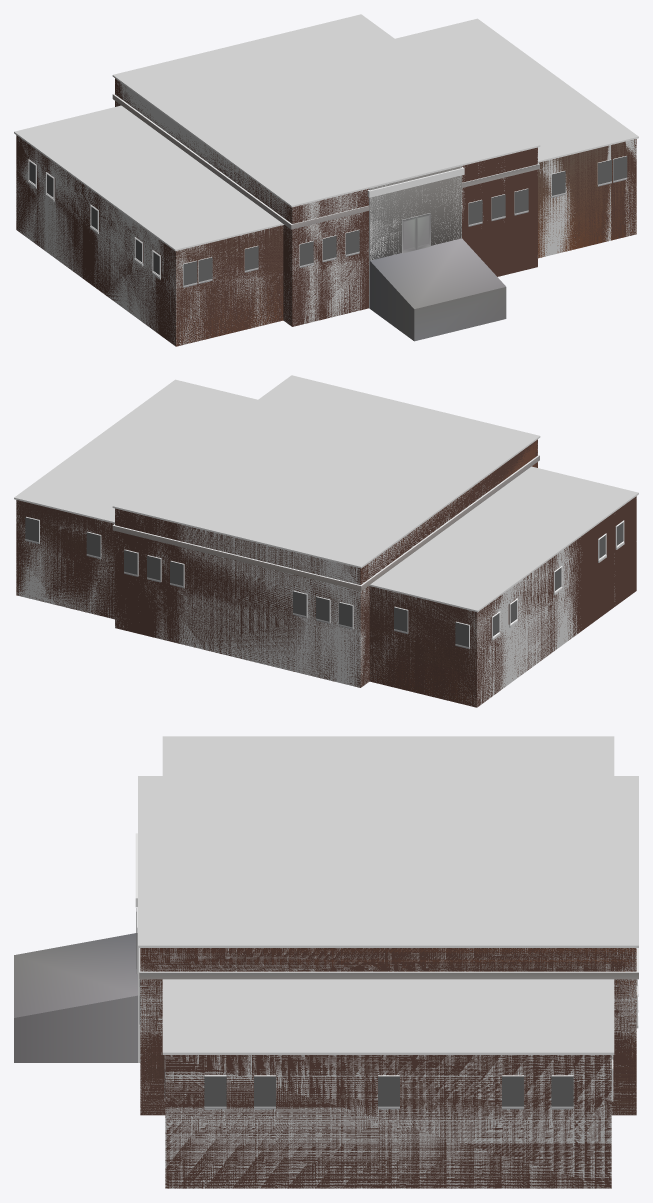
The model's file is eca_bld_station_police_a.dae.
3 renders of one model, top to bottom at view 1: azimuth 30°, elevation 25°; view 2: azimuth 150°, elevation 25°; view 3: azimuth 270°, elevation 25°, orthographic. The views are drawn at different scales.
Parts seen in each view (by area): view 1: ind_bld_a400, ind_bld_a100, ind_bld_a60; view 2: ind_bld_a400, ind_bld_a100, ind_bld_a60; view 3: ind_bld_a400, ind_bld_a100, ind_bld_a60.
Boxes of the visible parts, x1,y1,x2,y2 form: ind_bld_a400: (14,14,638,345); ind_bld_a100: (16,78,636,346); ind_bld_a60: (115,79,636,346); ind_bld_a400: (14,375,638,707); ind_bld_a100: (16,439,636,707); ind_bld_a60: (16,440,537,706); ind_bld_a400: (135,736,638,1188); ind_bld_a100: (14,908,638,1188); ind_bld_a60: (140,948,636,1115).
Bounding box in the file's own units: 30.24 × 25.2 × 7.6.
